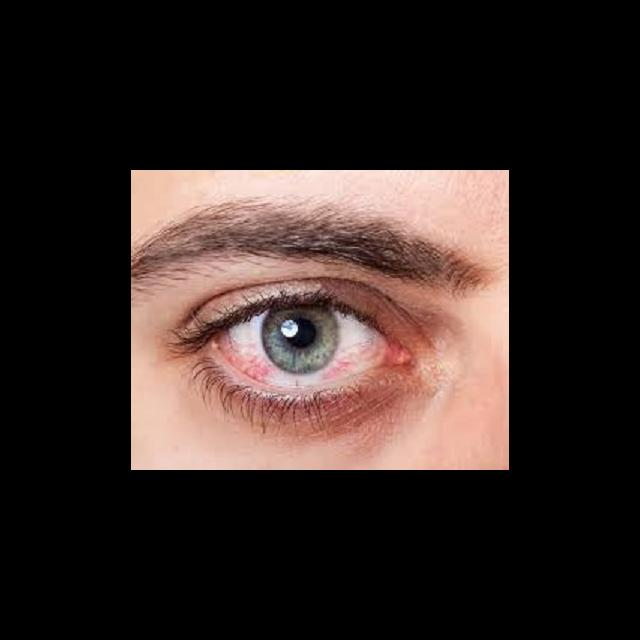eye: (213, 303, 389, 388)
iris: (262, 304, 340, 376)
